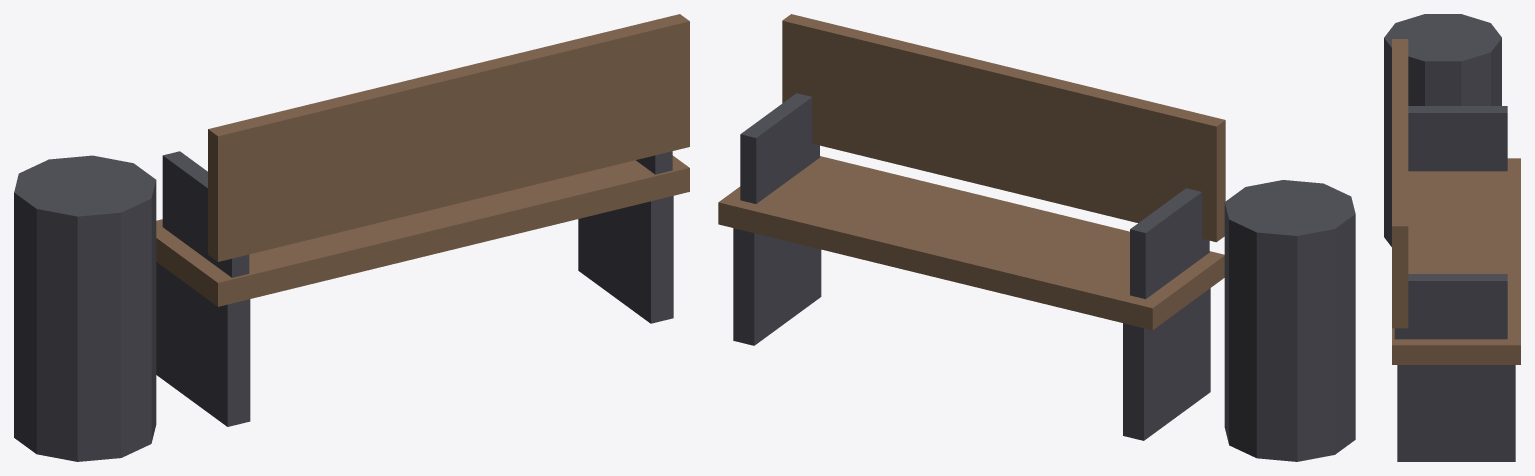
The model's file is SM_Banca_Colonial.fbx.
3 views of the same model, side by side, from view 1: azimuth 30°, elevation 25°; view 2: azimuth 150°, elevation 25°; view 3: azimuth 270°, elevation 25° (orthographic). The views are drawn at different scales.
Parts seen in each view (by area): view 1: SM_Banca_Colonial; view 2: SM_Banca_Colonial; view 3: SM_Banca_Colonial.
Boxes of the visible parts, bbox=[...] form: SM_Banca_Colonial: bbox=[14, 14, 689, 461]; SM_Banca_Colonial: bbox=[718, 14, 1355, 461]; SM_Banca_Colonial: bbox=[1384, 14, 1520, 461].
Size of the model in its own units: 2.21 by 0.99 by 0.51.
